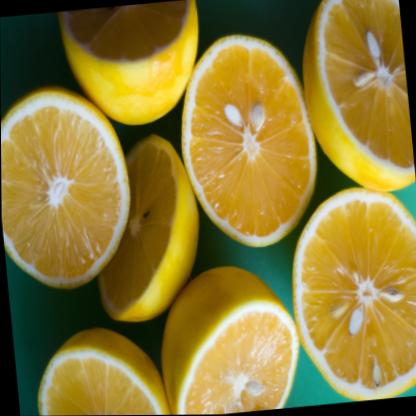lemon: (171, 28, 330, 256), (271, 169, 416, 408), (0, 80, 145, 300), (140, 242, 317, 415), (285, 0, 416, 204)
